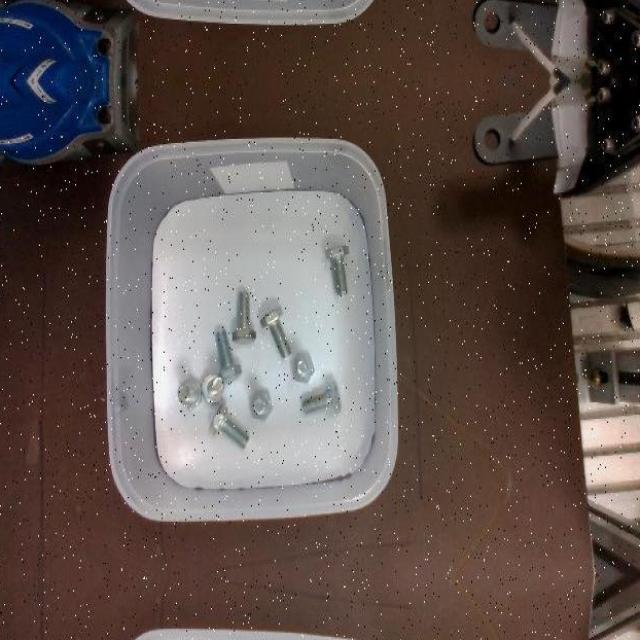screw: (208, 401, 250, 449), (260, 304, 290, 356), (215, 329, 242, 383), (233, 291, 257, 345), (304, 381, 342, 415), (325, 244, 349, 295), (249, 387, 274, 421), (289, 351, 315, 382), (177, 376, 202, 408), (202, 374, 225, 404)
